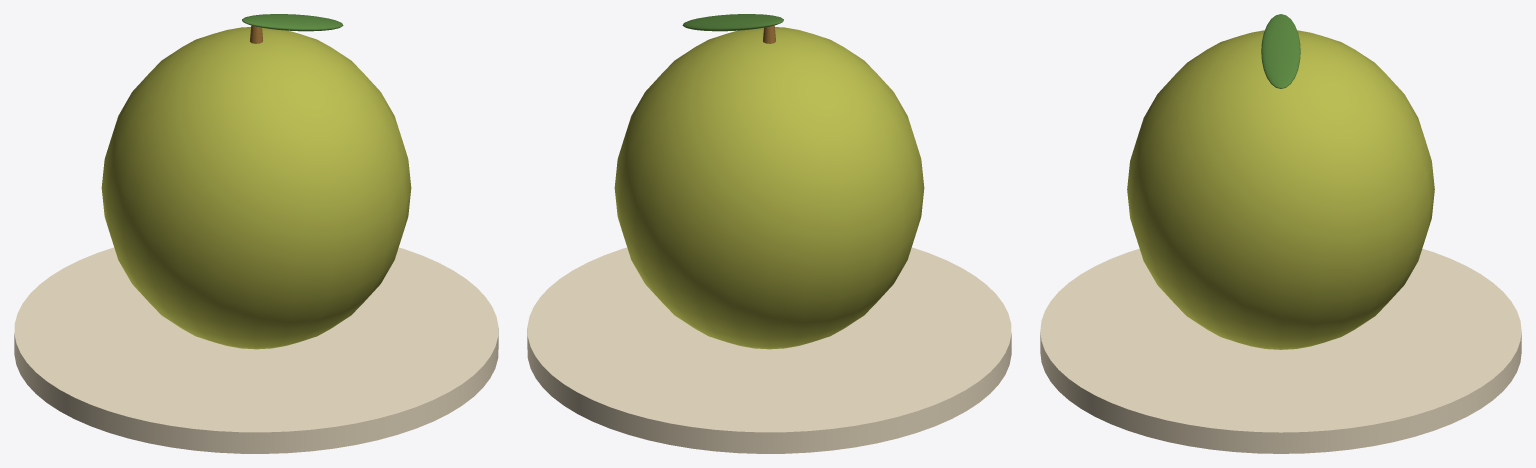
Rendered from dai-minh-pomelo-v1.glb.
3 renders of one model, left to right at view 1: azimuth 30°, elevation 25°; view 2: azimuth 150°, elevation 25°; view 3: azimuth 270°, elevation 25°, orthographic.
Parts seen in each view (by area): view 1: dai-minh-pomelo-concept; view 2: dai-minh-pomelo-concept; view 3: dai-minh-pomelo-concept.
Part boxes in pixels (x1=…): dai-minh-pomelo-concept: x1=14, y1=14, x2=498, y2=453; dai-minh-pomelo-concept: x1=527, y1=14, x2=1011, y2=453; dai-minh-pomelo-concept: x1=1040, y1=14, x2=1521, y2=453.
Bounding box in the file's own units: 2.44 × 1.86 × 2.44.
